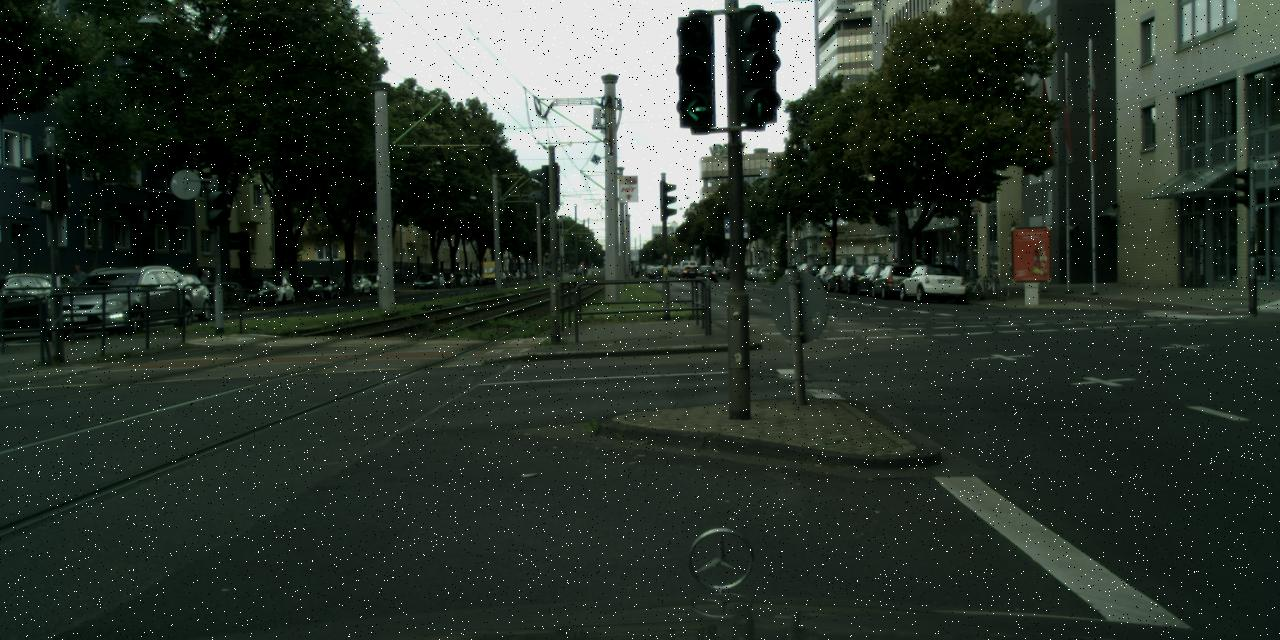ped: (68, 263, 86, 306), (199, 266, 211, 298), (232, 268, 242, 296)
